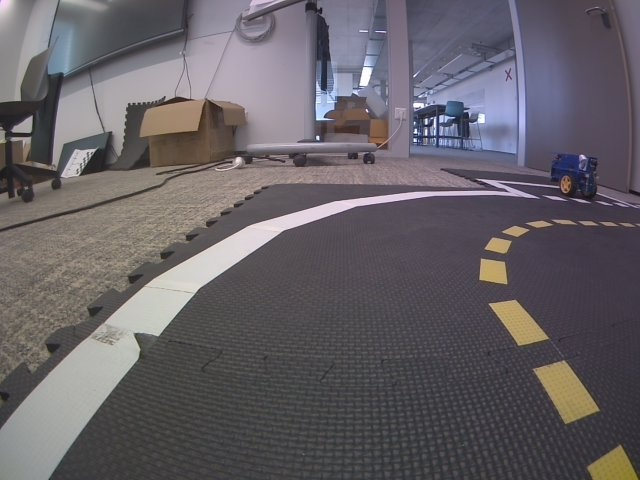Bot: (551, 152, 599, 199)
occupiedSlot: (474, 177, 637, 209)
